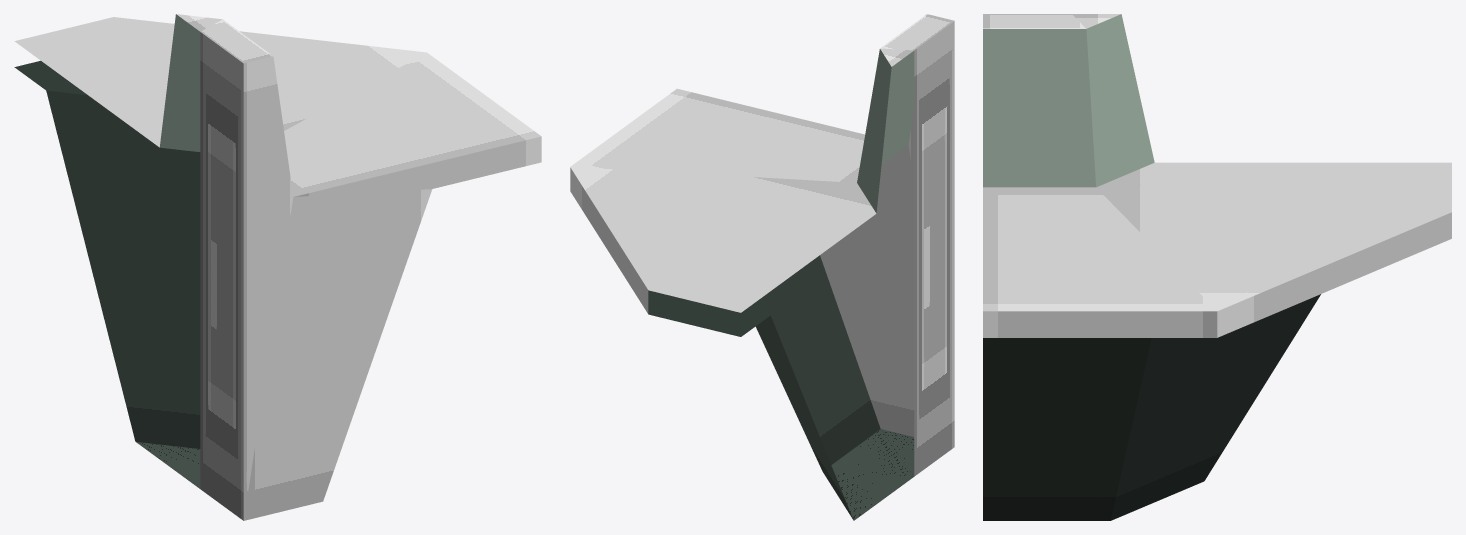
File: desk_corner_outside_deep_left.obj
3 views of the same model, side by side, from view 1: azimuth 30°, elevation 25°; view 2: azimuth 150°, elevation 25°; view 3: azimuth 270°, elevation 25° (orthographic). The views are drawn at different scales.
Bounding box in the file's own units: 0.75 × 1.1 × 1.
